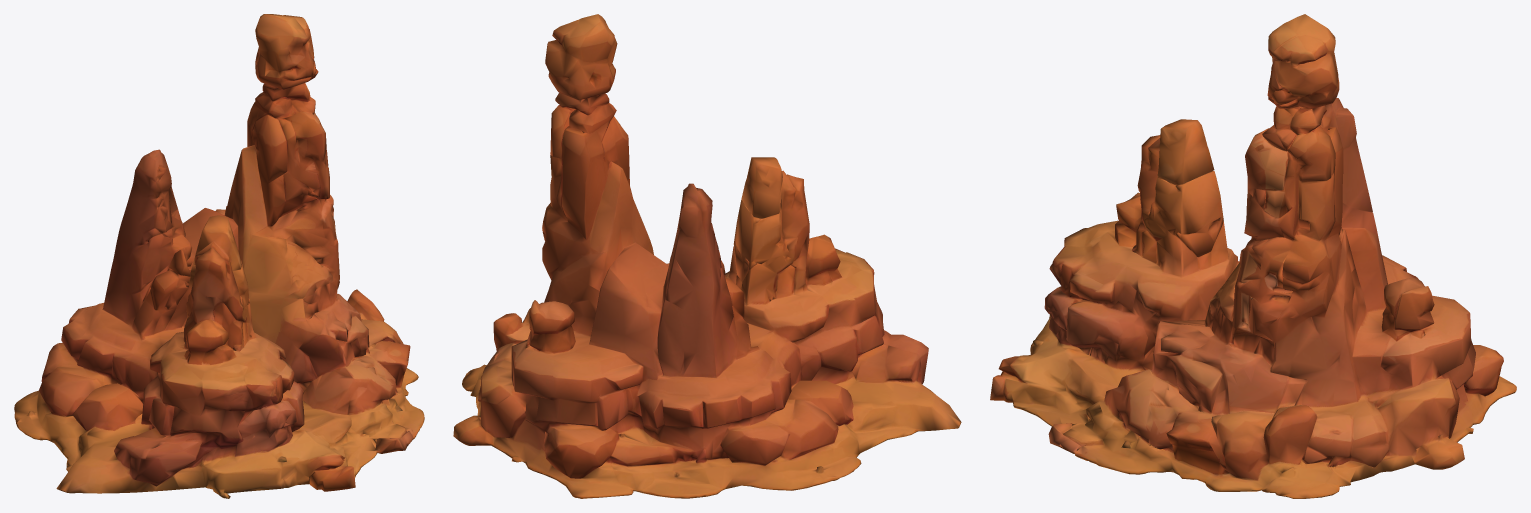
File: env_west_rock_1.fbx
3 views of the same model, side by side, from view 1: azimuth 30°, elevation 25°; view 2: azimuth 150°, elevation 25°; view 3: azimuth 270°, elevation 25° (orthographic). The views are drawn at different scales.
Visible parts, largest first — view 1: env_west_rock_1_LOD0; view 2: env_west_rock_1_LOD0; view 3: env_west_rock_1_LOD0.
Boxes of the visible parts, x1,y1,x2,y2 form: env_west_rock_1_LOD0: [14, 14, 424, 498]; env_west_rock_1_LOD0: [453, 14, 961, 498]; env_west_rock_1_LOD0: [990, 14, 1516, 498].
Size of what is drawn, in the model's own units: 0.9782 by 0.853 by 0.9783.
